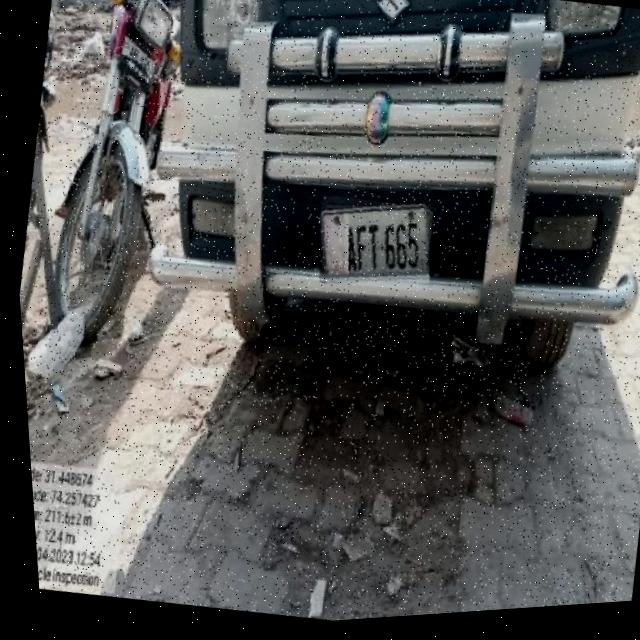LicensePlate: (305, 194, 436, 303)
